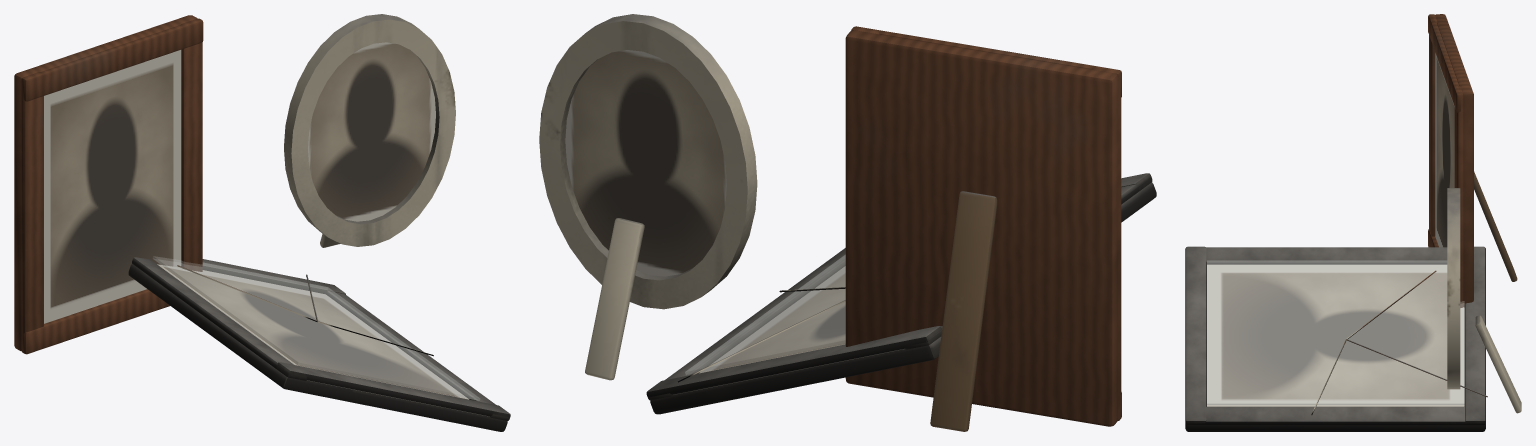
File: SM_PhotoFrames_Set.fbx
3 views of the same model, side by side, from view 1: azimuth 30°, elevation 25°; view 2: azimuth 150°, elevation 25°; view 3: azimuth 270°, elevation 25° (orthographic). The views are drawn at different scales.
Parts seen in each view (by area): view 1: SM_PhotoFrames_Set; view 2: SM_PhotoFrames_Set; view 3: SM_PhotoFrames_Set.
Boxes of the visible parts, left/top/right/bottom form: SM_PhotoFrames_Set: left=14, top=14, right=510, bottom=431; SM_PhotoFrames_Set: left=539, top=14, right=1156, bottom=431; SM_PhotoFrames_Set: left=1185, top=14, right=1521, bottom=431.
Size of the model in its own units: 0.4044 by 0.2872 by 0.3131.
2 materials, 1 textured.
